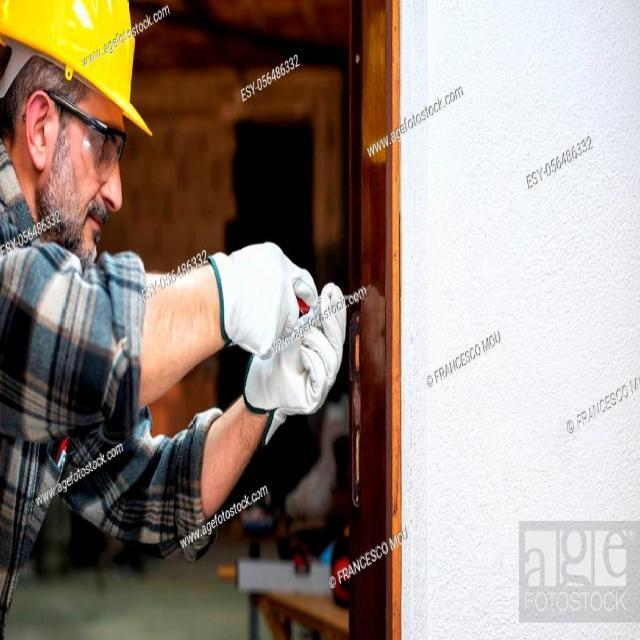screwdriver: (266, 279, 370, 333)
